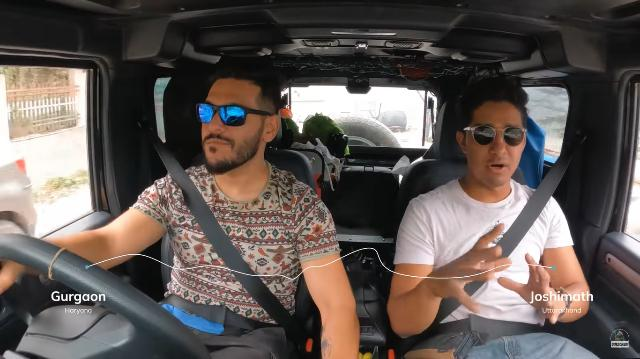seatbelt: (351, 144, 573, 354), (137, 119, 316, 357)
